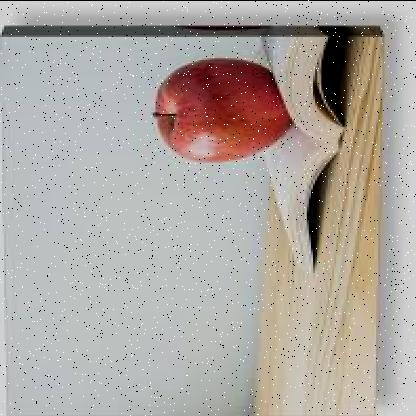apple: (164, 60, 284, 164)
